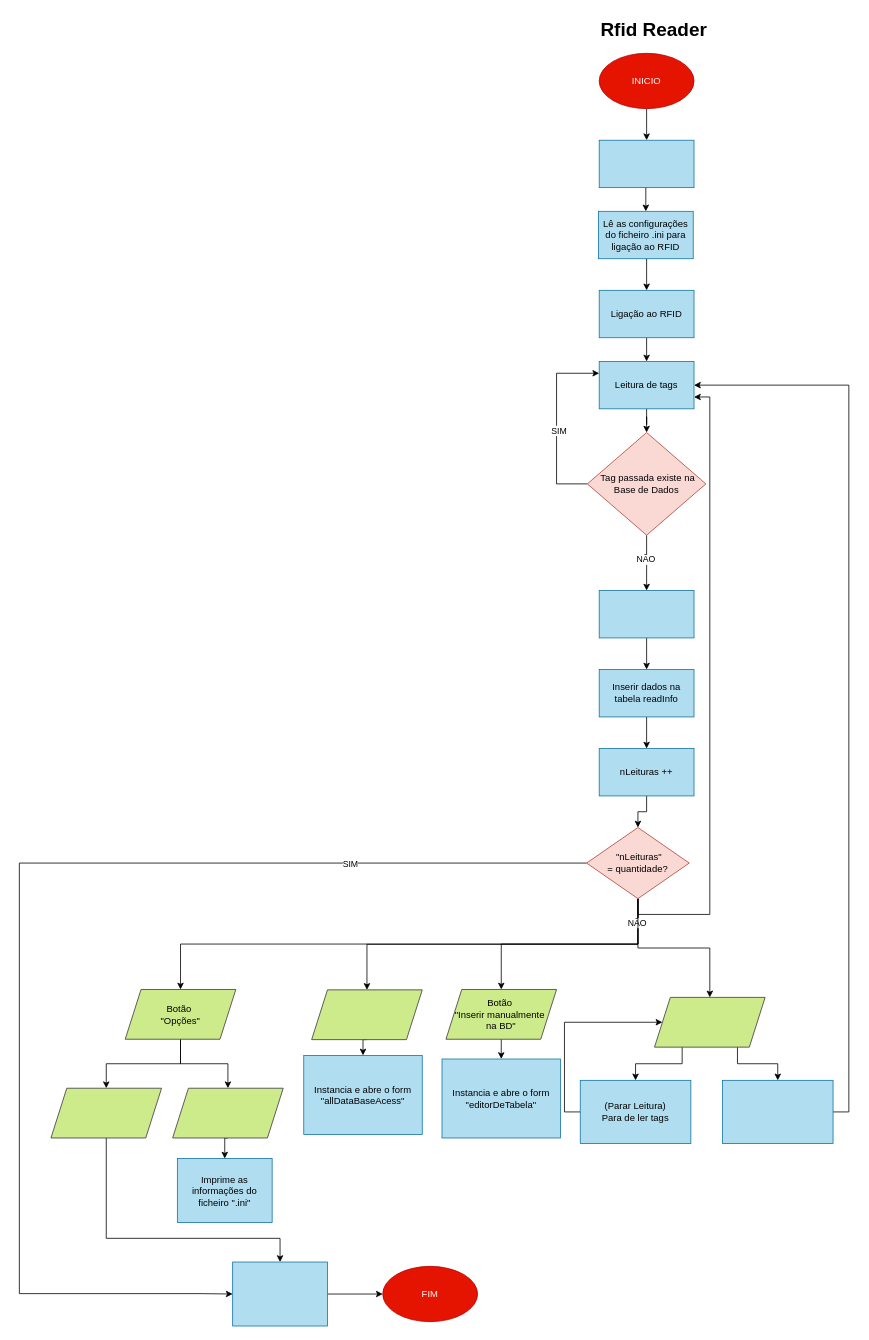
Some shapes in this 869 by 1340 pixel diagram are drawn without their labels. Each missing label, with the centre of its shape:
(Retomar Leitura) Voltar a ler tags: point 777,1112
Botão "Parar Leitura" / "Retomar Leitura": point 709,1022
Botão "Sair ": point 106,1112
Botão "Sobre ": point 227,1112
Botão "Ver base de dados": point 366,1014
Desconexão do RFID: point 279,1293
Inserir dados na tabela FX9600: point 646,614
Obter váriaveis da "initial page": point 646,163
